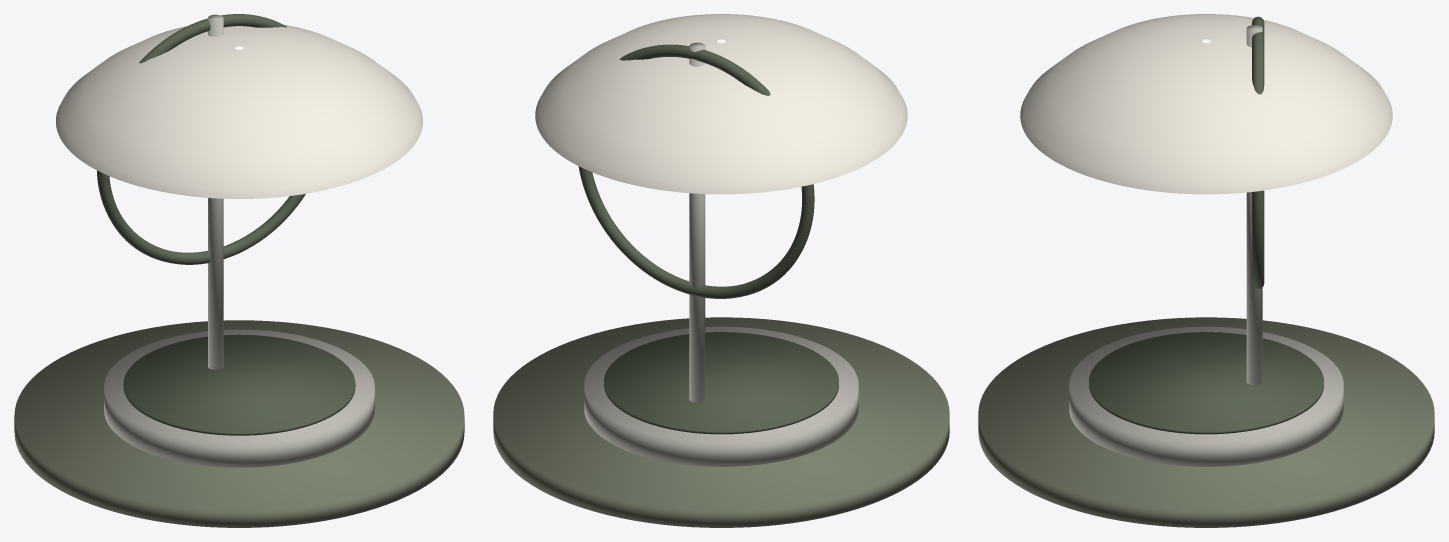
File: aura-object-01.glb
The picture shows the model from 3 angles, left to right: view 1: azimuth 30°, elevation 25°; view 2: azimuth 150°, elevation 25°; view 3: azimuth 270°, elevation 25°; orthographic projection.
Parts seen in each view (by area): view 1: 05 / porcelain canopy, 08 / charcoal presentation plinth, 02 / inset olive disc, 01 / machined circular base, 04 / structural halo, 03 / vertical support; view 2: 05 / porcelain canopy, 08 / charcoal presentation plinth, 02 / inset olive disc, 01 / machined circular base, 04 / structural halo, 03 / vertical support; view 3: 05 / porcelain canopy, 08 / charcoal presentation plinth, 02 / inset olive disc, 01 / machined circular base, 03 / vertical support, 04 / structural halo.
Part boxes in pixels (x1=…): 05 / porcelain canopy: x1=56, y1=24, x2=422, y2=198; 08 / charcoal presentation plinth: x1=14, y1=320, x2=464, y2=527; 02 / inset olive disc: x1=123, y1=334, x2=355, y2=435; 01 / machined circular base: x1=104, y1=329, x2=374, y2=467; 04 / structural halo: x1=97, y1=14, x2=305, y2=264; 03 / vertical support: x1=208, y1=14, x2=223, y2=369; 05 / porcelain canopy: x1=535, y1=14, x2=907, y2=194; 08 / charcoal presentation plinth: x1=493, y1=317, x2=949, y2=527; 02 / inset olive disc: x1=604, y1=332, x2=838, y2=434; 01 / machined circular base: x1=584, y1=326, x2=858, y2=466; 04 / structural halo: x1=578, y1=44, x2=814, y2=298; 03 / vertical support: x1=689, y1=42, x2=705, y2=402; 05 / porcelain canopy: x1=1020, y1=14, x2=1392, y2=194; 08 / charcoal presentation plinth: x1=978, y1=317, x2=1434, y2=527; 02 / inset olive disc: x1=1089, y1=332, x2=1323, y2=434; 01 / machined circular base: x1=1069, y1=326, x2=1343, y2=466; 03 / vertical support: x1=1246, y1=25, x2=1262, y2=385; 04 / structural halo: x1=1252, y1=16, x2=1264, y2=288.
Size of the model in its own units: 2.56 by 2.5 by 2.56.
